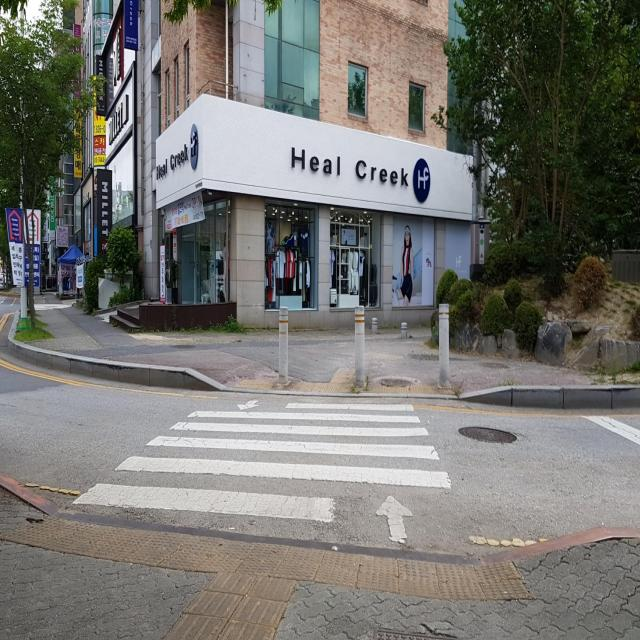횡단보도: (71, 399, 454, 546)
